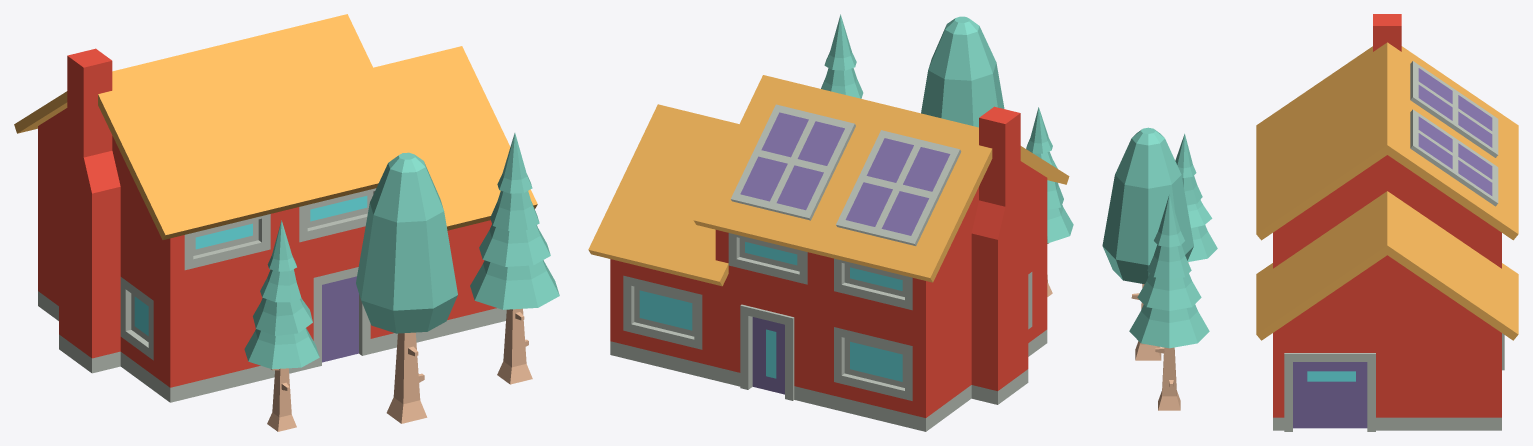
Rendered from Lumber.fbx.
The picture shows the model from 3 angles, left to right: view 1: azimuth 30°, elevation 25°; view 2: azimuth 150°, elevation 25°; view 3: azimuth 270°, elevation 25°; orthographic projection. The views are drawn at different scales.
Visible parts, largest first — view 1: house_type13, treeHighRound, treeHigh, treeHighCrooked; view 2: house_type13, treeHighRound, treeHighCrooked, treeHigh; view 3: house_type13, treeHighRound, treeHigh, treeHighCrooked.
Part boxes in pixels (x1,y1,x2,y2): house_type13: (14, 14, 537, 402); treeHighRound: (356, 152, 457, 423); treeHigh: (470, 133, 559, 384); treeHighCrooked: (244, 220, 319, 431); house_type13: (588, 75, 1069, 431); treeHighRound: (921, 16, 1004, 127); treeHighCrooked: (1026, 107, 1073, 296); treeHigh: (821, 14, 863, 98); house_type13: (1256, 14, 1518, 431); treeHighRound: (1102, 127, 1193, 360); treeHigh: (1129, 194, 1209, 410); treeHighCrooked: (1175, 133, 1217, 262).
Bounding box in the file's own units: 135 × 100 × 145.
